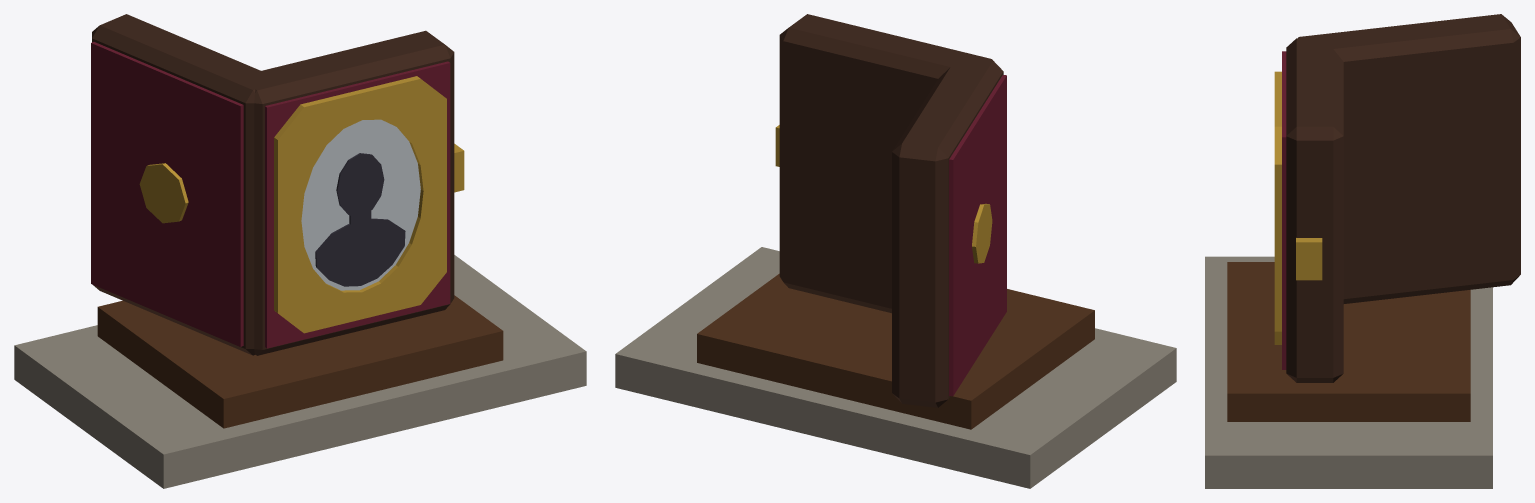
The model's file is daguerreotype.glb.
The picture shows the model from 3 angles, left to right: view 1: azimuth 30°, elevation 25°; view 2: azimuth 150°, elevation 25°; view 3: azimuth 270°, elevation 25°; orthographic projection. The views are drawn at different scales.
Visible parts, largest first — view 1: daguerreotype; view 2: daguerreotype; view 3: daguerreotype.
Part boxes in pixels (x1=…): daguerreotype: x1=14, y1=14, x2=586, y2=488; daguerreotype: x1=615, y1=14, x2=1176, y2=488; daguerreotype: x1=1205, y1=14, x2=1520, y2=488.
Size of the model in its own units: 0.9 by 0.67 by 0.6033.
